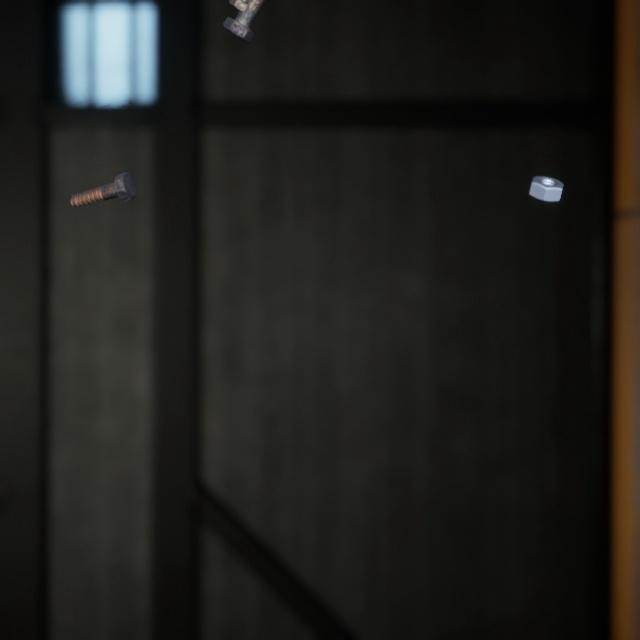bolt: (65, 153, 141, 197), (218, 0, 266, 39)
nut: (524, 157, 568, 191)
